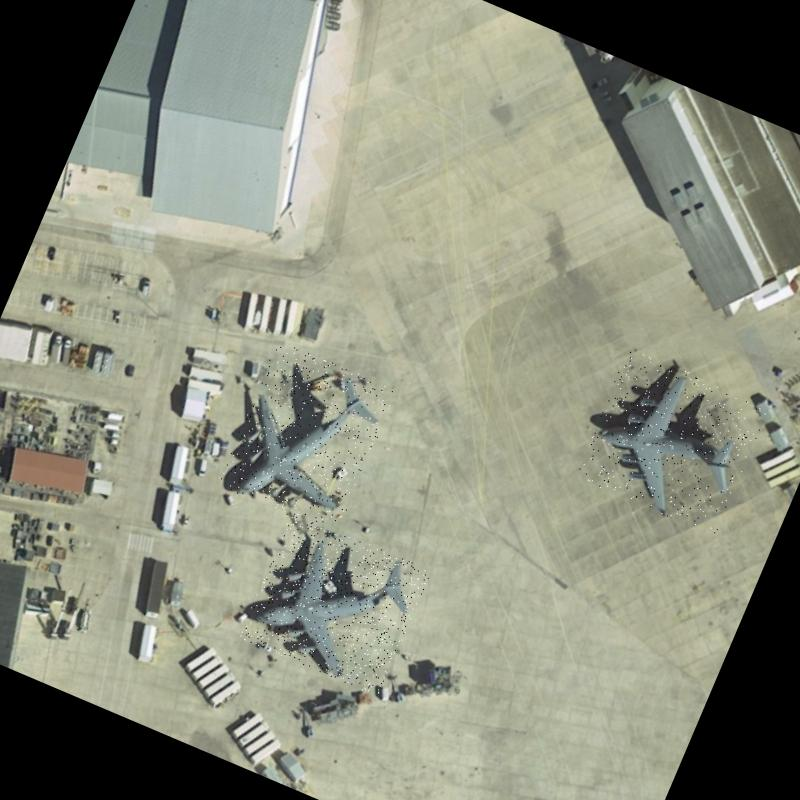A3: (574, 346, 770, 536), (239, 512, 432, 698), (216, 340, 397, 536)
